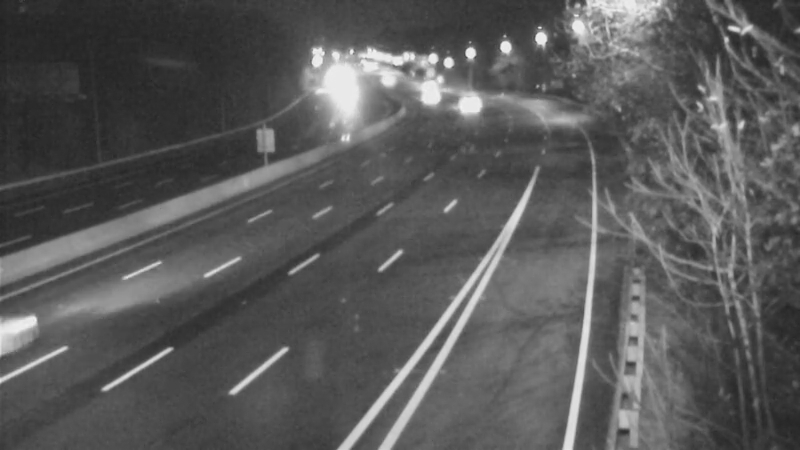vehicle: (360, 55, 410, 105), (400, 72, 450, 122), (433, 78, 483, 128)
